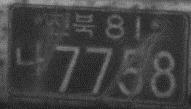1: (134, 15, 142, 42)
5: (116, 46, 146, 97)
7: (53, 43, 80, 94), (86, 46, 113, 95)
8: (150, 49, 177, 99), (105, 12, 124, 40)
나: (15, 41, 45, 78)
전북_O: (47, 9, 95, 38)
